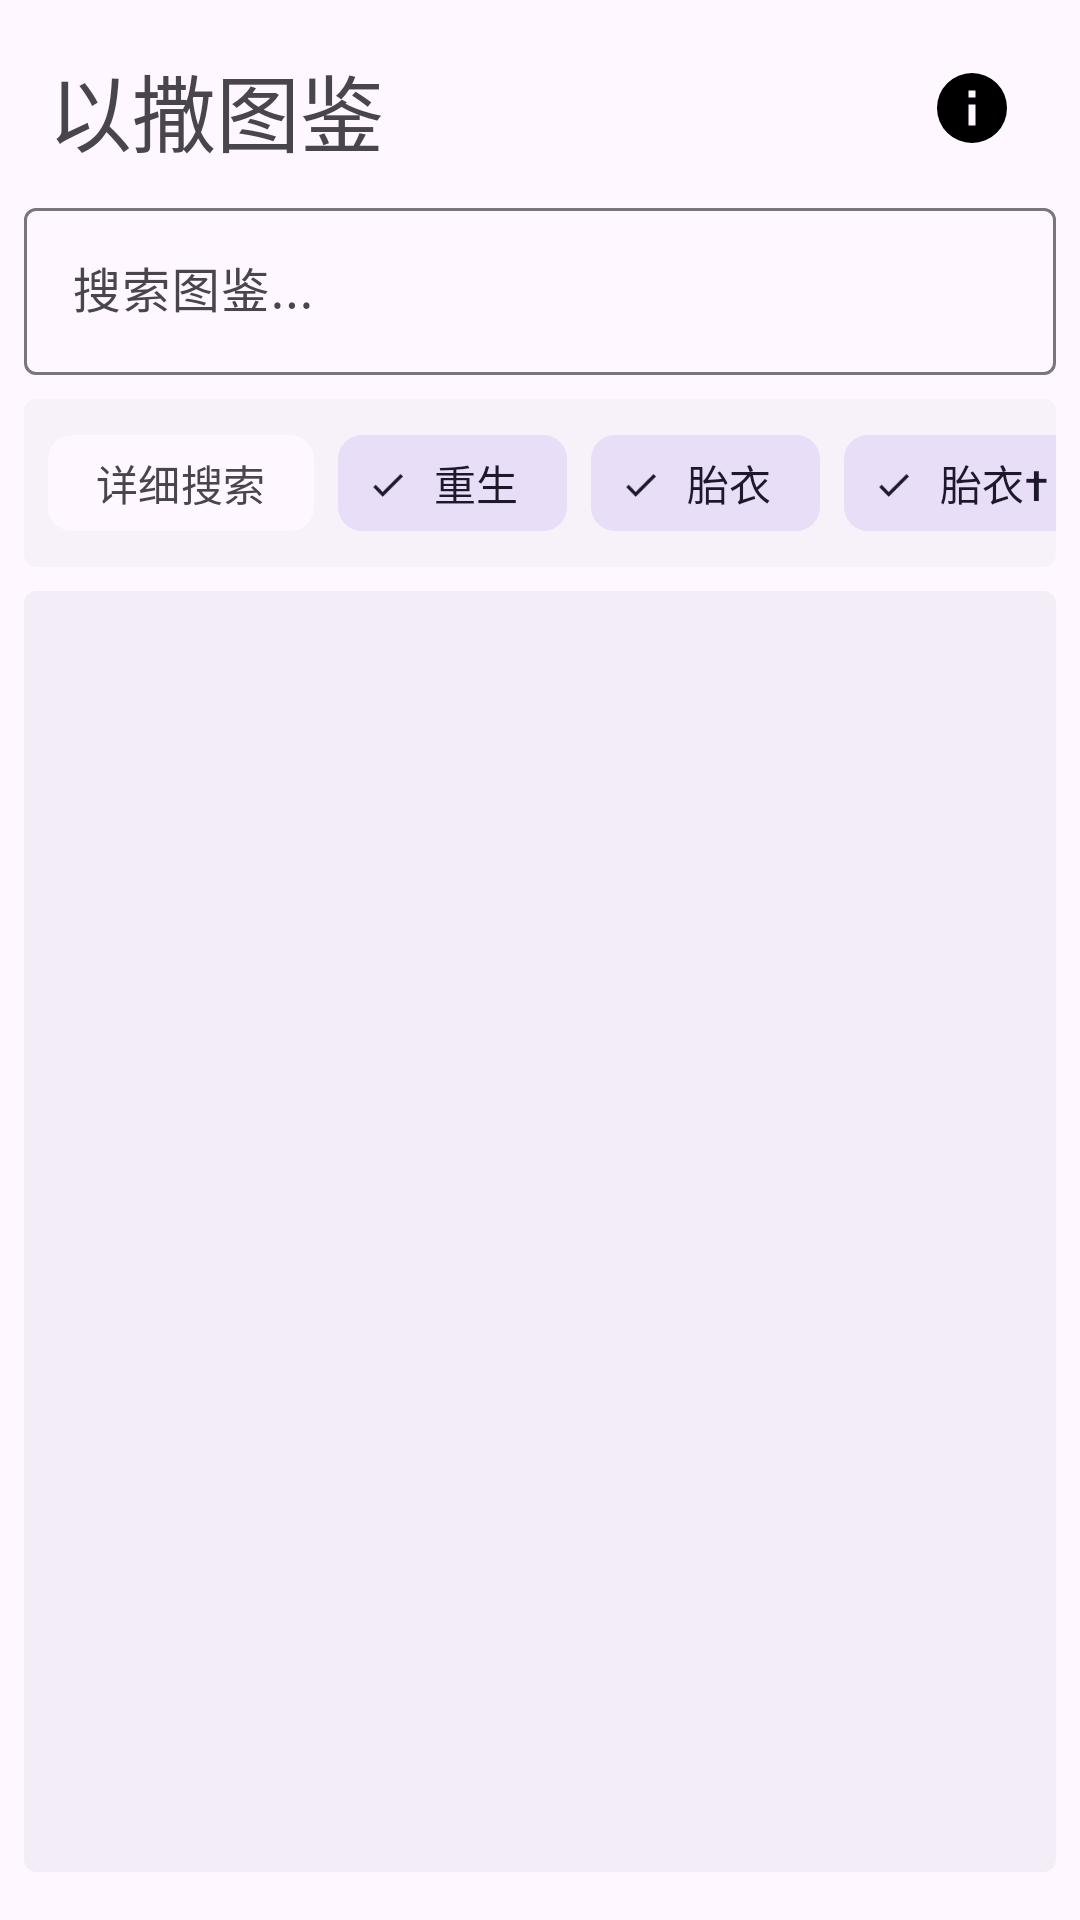

Where to tap for icons on this 1080×1920 app screen, as [x,y]:
about: [972,108]
